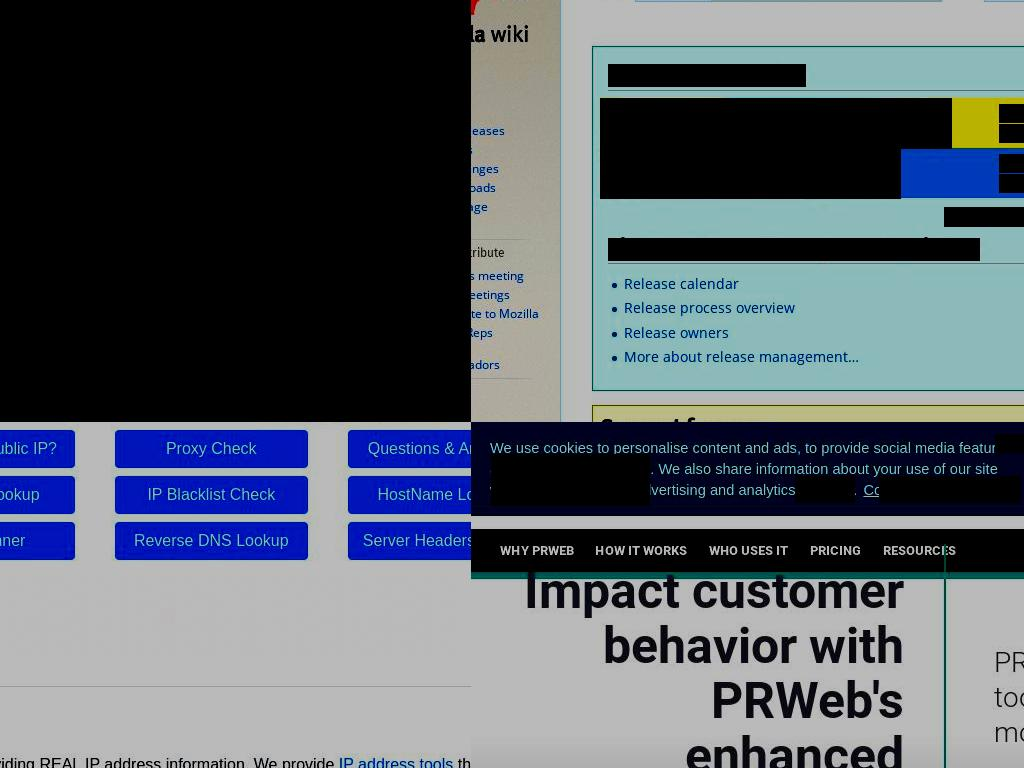button: (491, 454, 650, 506), (115, 430, 308, 468), (115, 476, 308, 514), (115, 522, 308, 560), (347, 430, 471, 468), (347, 476, 471, 514), (347, 522, 471, 560), (879, 476, 1021, 503), (0, 430, 75, 468), (0, 476, 75, 514), (0, 522, 75, 560), (595, 540, 688, 561), (708, 540, 789, 561), (795, 476, 855, 503), (500, 540, 575, 561), (882, 540, 957, 561), (809, 540, 862, 561)
heading: (483, 564, 904, 768), (471, 0, 569, 422), (0, 707, 471, 745), (0, 145, 277, 191), (608, 238, 980, 261), (608, 64, 806, 87), (471, 246, 543, 263), (471, 385, 543, 402), (600, 417, 774, 422)
iframe: (0, 572, 459, 662)
image: (600, 98, 952, 149), (600, 148, 901, 199), (471, 0, 552, 82), (471, 574, 1024, 577)
link: (623, 346, 859, 366), (623, 298, 795, 318), (623, 273, 739, 293), (623, 322, 729, 342), (944, 207, 1024, 227), (863, 482, 953, 498), (338, 756, 453, 768), (471, 305, 540, 322), (471, 267, 525, 284), (471, 343, 501, 373), (471, 286, 511, 303), (471, 122, 506, 139), (995, 434, 1024, 453), (471, 160, 500, 177), (471, 179, 497, 196), (471, 324, 494, 341), (471, 198, 489, 215)
text: (0, 0, 471, 289), (0, 297, 362, 422), (490, 440, 1012, 498), (491, 454, 650, 506), (0, 193, 277, 209), (0, 756, 339, 768), (409, 409, 471, 422), (999, 104, 1024, 123), (999, 154, 1024, 173), (999, 174, 1024, 193)
